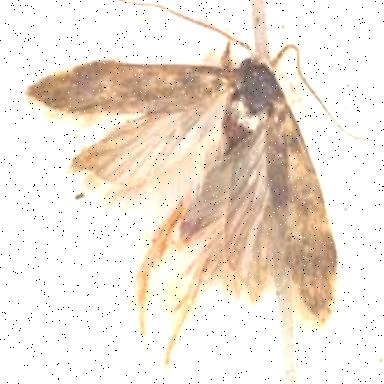abw: (22, 0, 371, 374)
